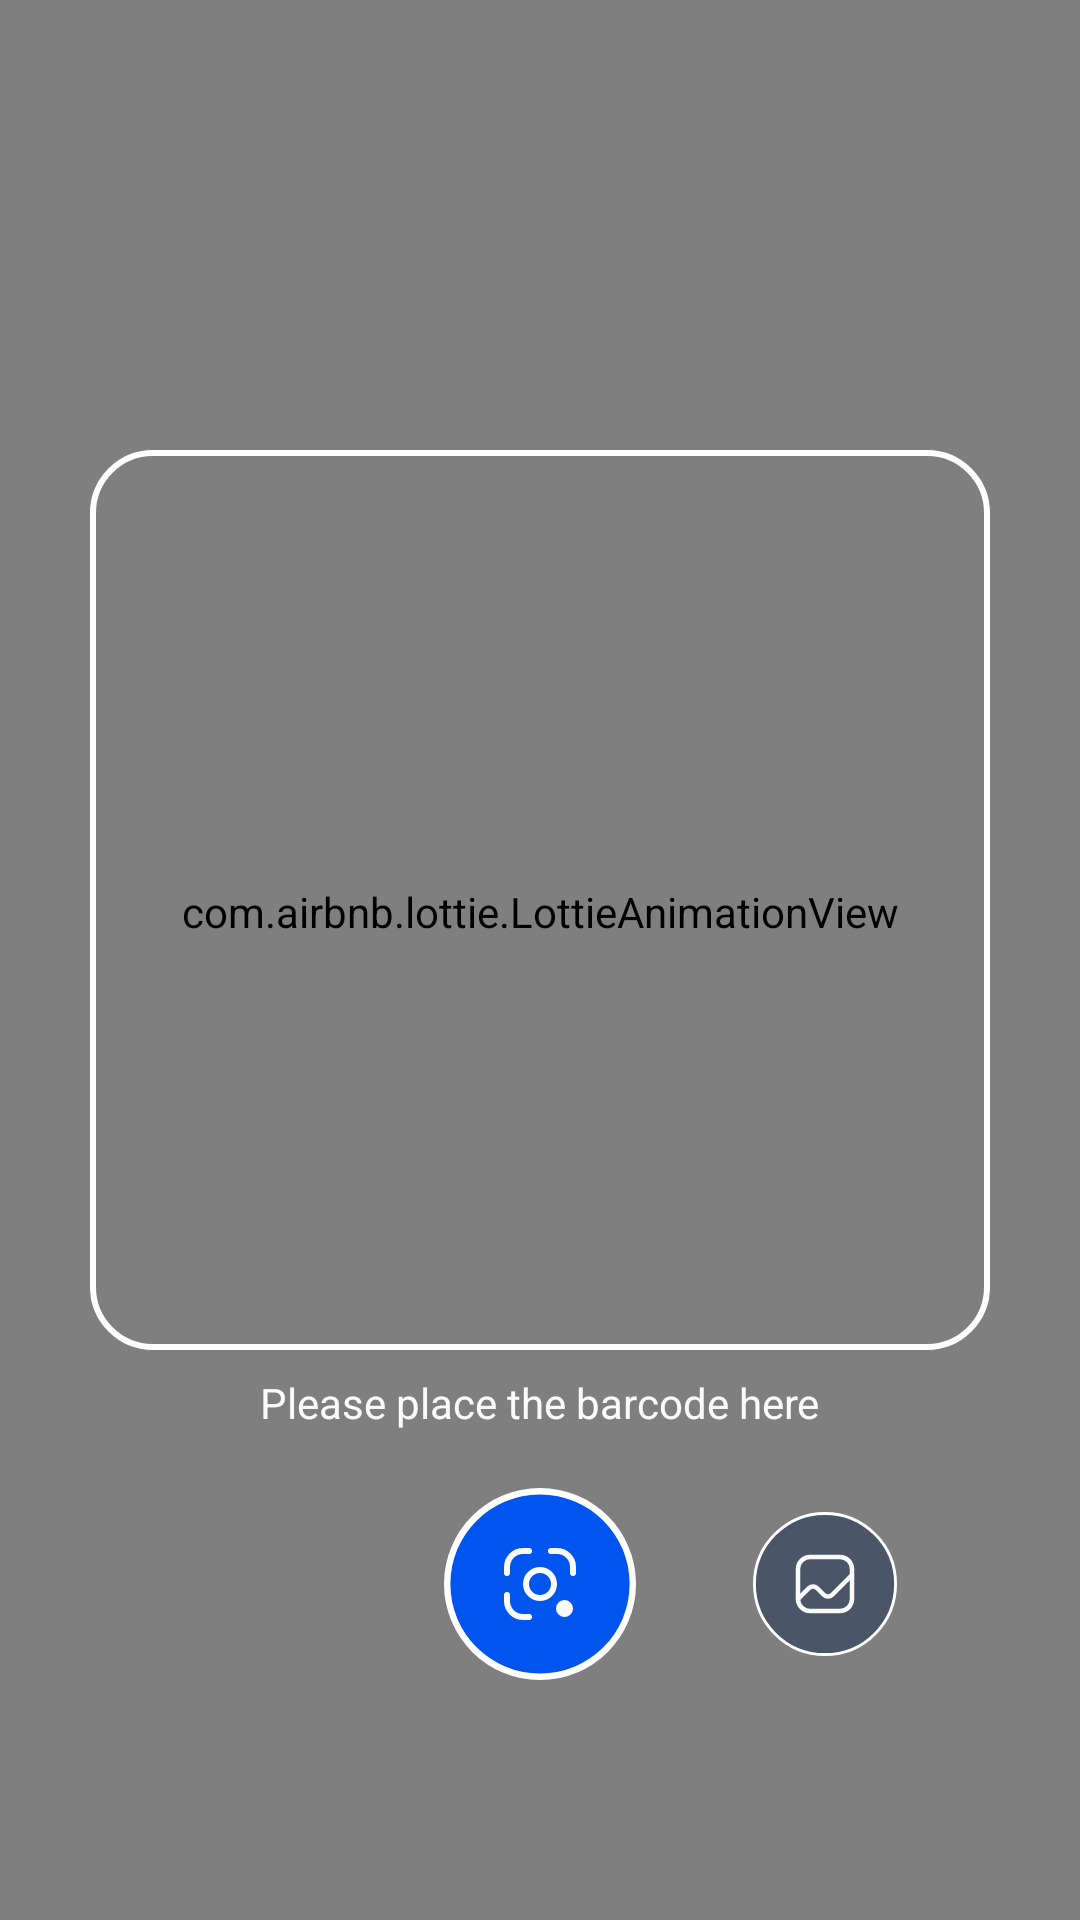

Where icons sit on this 1080w x 1920h app screen, as (x1, y1, x2, y2):
Scan: (444, 1488, 636, 1680)
Select from Gallery: (753, 1512, 897, 1656)
